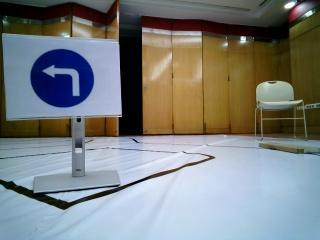left: (9, 37, 116, 115)
